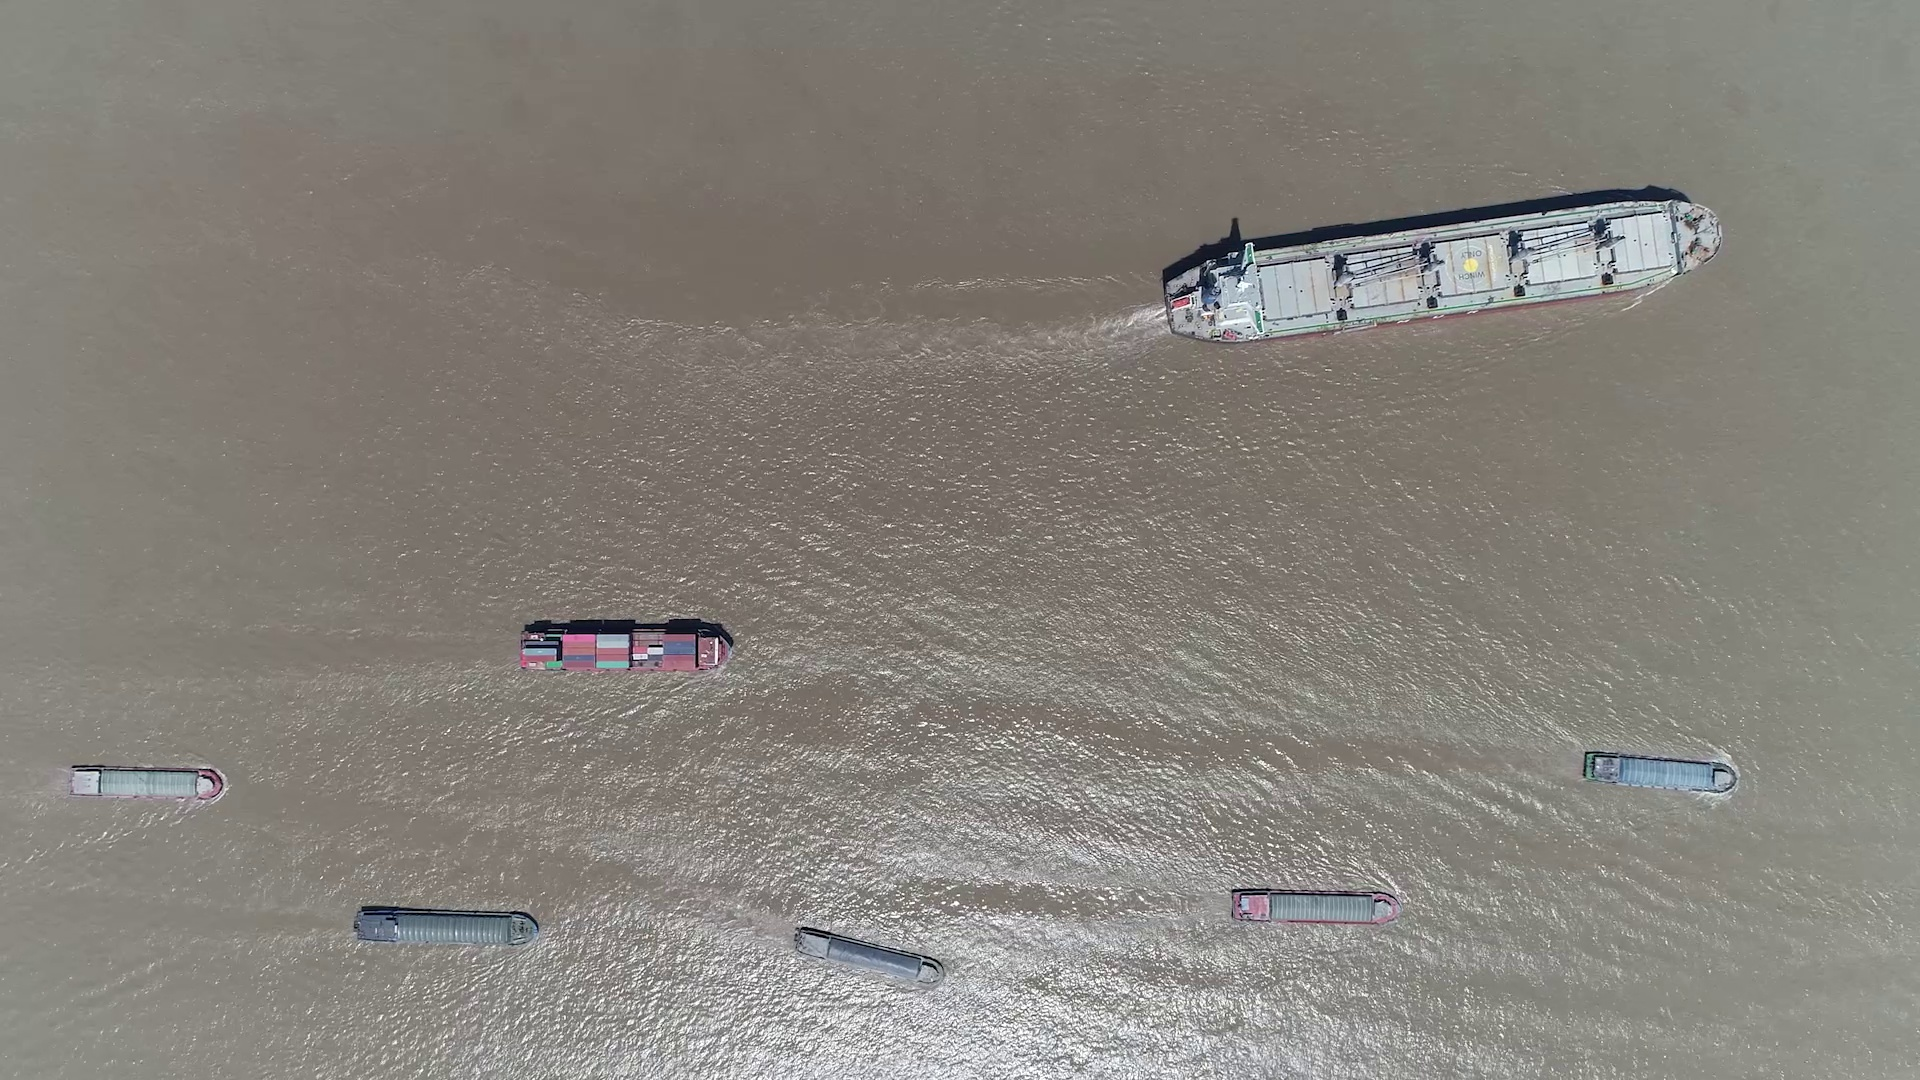ship: (1159, 199, 1720, 342), (520, 625, 733, 673), (793, 924, 942, 984), (353, 905, 537, 947), (1585, 752, 1735, 794), (1229, 889, 1400, 926), (67, 764, 225, 800)
